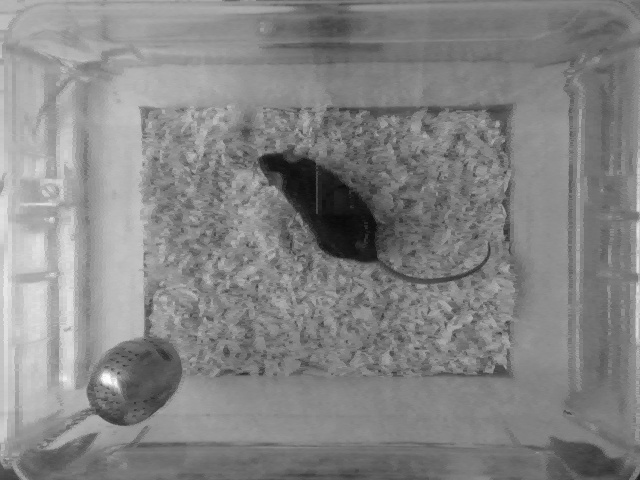mice: (250, 147, 498, 281)
